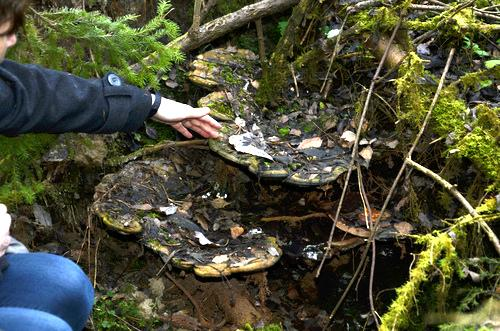Ganoderma - Fruit Body: (193, 39, 367, 184), (97, 152, 195, 278), (330, 194, 400, 244)
